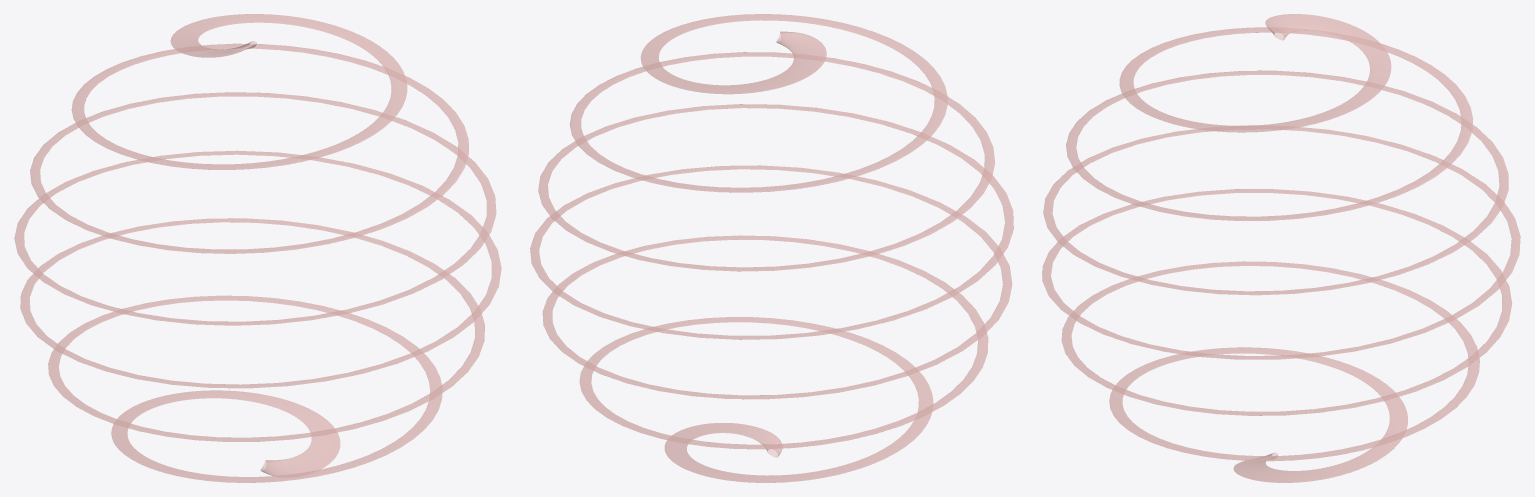
File: helix-simplified-B.glb
The picture shows the model from 3 angles, left to right: view 1: azimuth 30°, elevation 25°; view 2: azimuth 150°, elevation 25°; view 3: azimuth 270°, elevation 25°; orthographic projection.
Parts seen in each view (by area): view 1: Torus.B; view 2: Torus.B; view 3: Torus.B.
Boxes of the visible parts, bbox=[...] form: Torus.B: bbox=[14, 14, 501, 482]; Torus.B: bbox=[530, 14, 1013, 482]; Torus.B: bbox=[1042, 14, 1520, 482].
Size of the model in its own units: 20.52 by 20 by 20.46.
